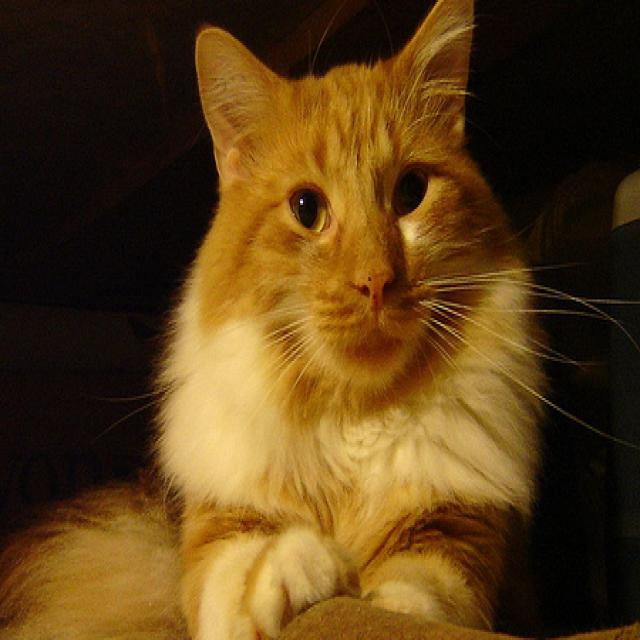Maine Coon: (0, 0, 549, 640)
